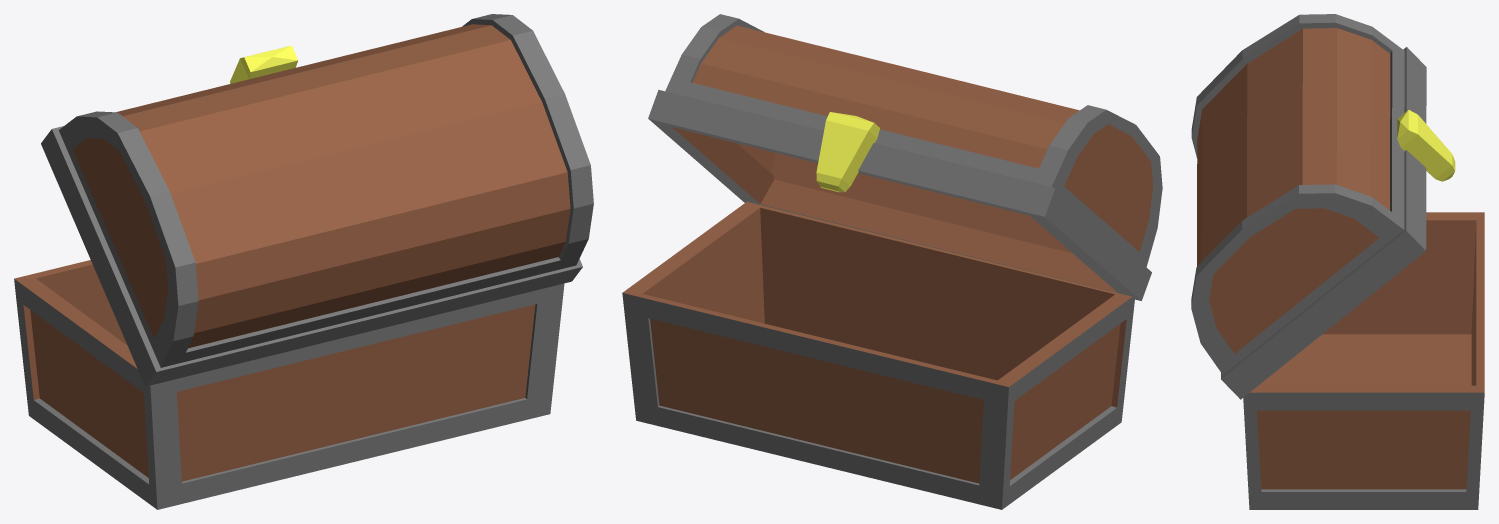
Rendered from ChestOpened.gltf.
3 views of the same model, side by side, from view 1: azimuth 30°, elevation 25°; view 2: azimuth 150°, elevation 25°; view 3: azimuth 270°, elevation 25° (orthographic). The views are drawn at different scales.
Parts seen in each view (by area): view 1: Plane, Plane_001, Plane_002; view 2: Plane_001, Plane, Plane_002; view 3: Plane, Plane_001, Plane_002.
Part boxes in pixels (x1=…): Plane: x1=41, y1=14, x2=593, y2=386; Plane_001: x1=14, y1=260, x2=564, y2=509; Plane_002: x1=230, y1=45, x2=298, y2=83; Plane_001: x1=622, y1=201, x2=1134, y2=509; Plane: x1=648, y1=14, x2=1162, y2=300; Plane_002: x1=816, y1=112, x2=879, y2=192; Plane: x1=1191, y1=14, x2=1426, y2=399; Plane_001: x1=1243, y1=212, x2=1484, y2=509; Plane_002: x1=1397, y1=110, x2=1455, y2=181.
Size of the model in its own units: 0.8942 by 0.7231 by 0.5985.
